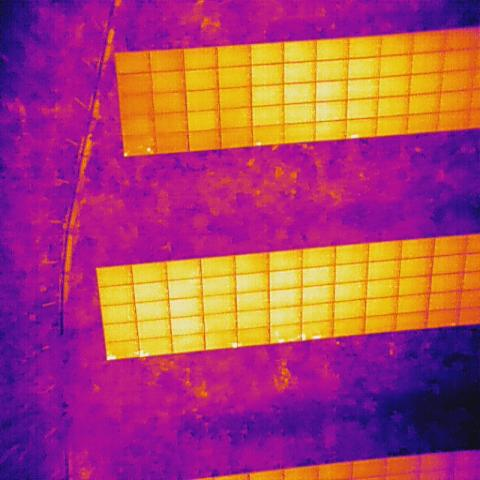fault: (230, 341, 244, 349), (106, 353, 117, 362), (349, 132, 362, 139), (144, 145, 154, 154), (138, 350, 149, 358), (276, 337, 286, 344), (300, 331, 306, 342), (254, 140, 264, 146), (311, 336, 323, 341), (123, 150, 129, 156)
